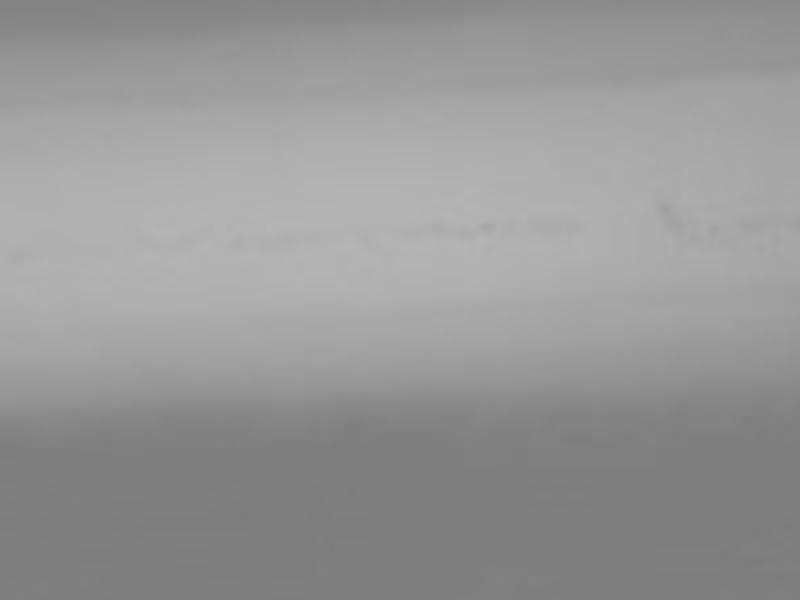defect: (651, 193, 678, 221)
